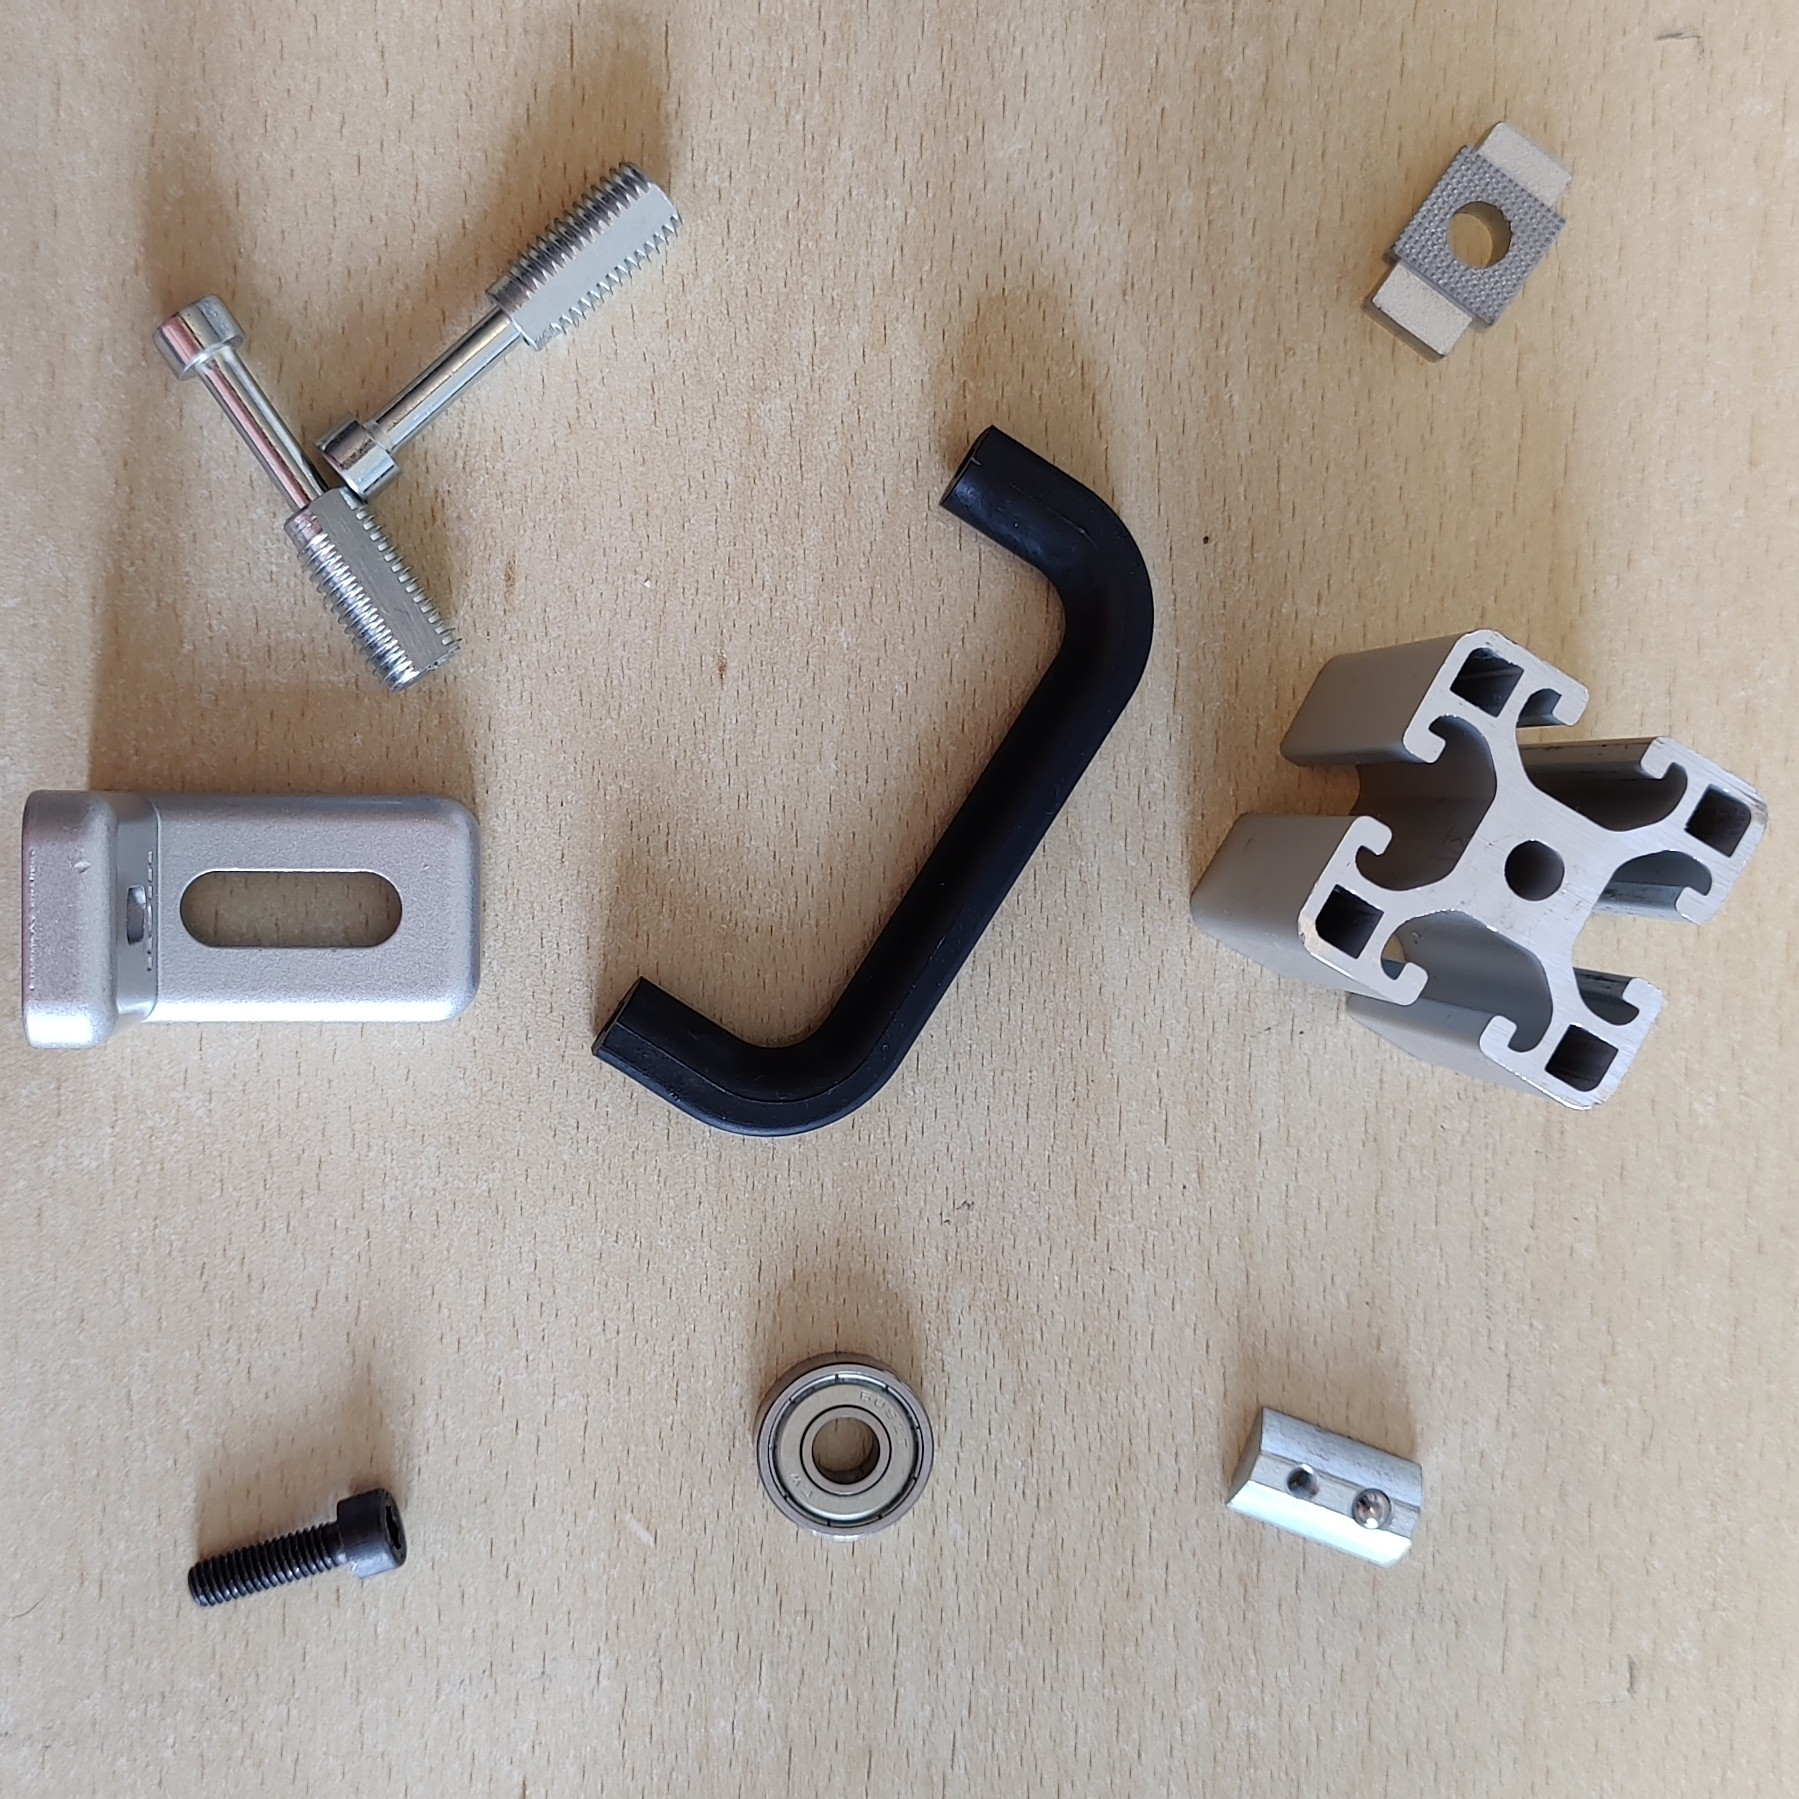Aluminium Extension: (1188, 626, 1768, 1110)
Ball Bearing: (750, 1344, 936, 1540)
Multiwinkel: (15, 787, 484, 1053)
Pull Handle: (588, 422, 1158, 1142)
Shoulder Socket Head Cap Screw: (311, 160, 682, 506), (152, 292, 465, 695)
Socket Head Cap Screw: (185, 1484, 409, 1611)
T Nut Square: (1357, 120, 1580, 362)
T Spring Nut: (1221, 1400, 1423, 1572)
